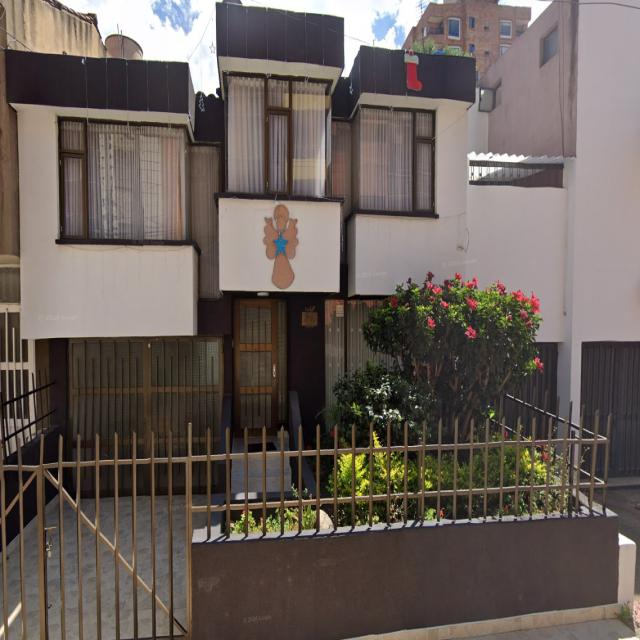Fachada: (7, 2, 475, 457)
